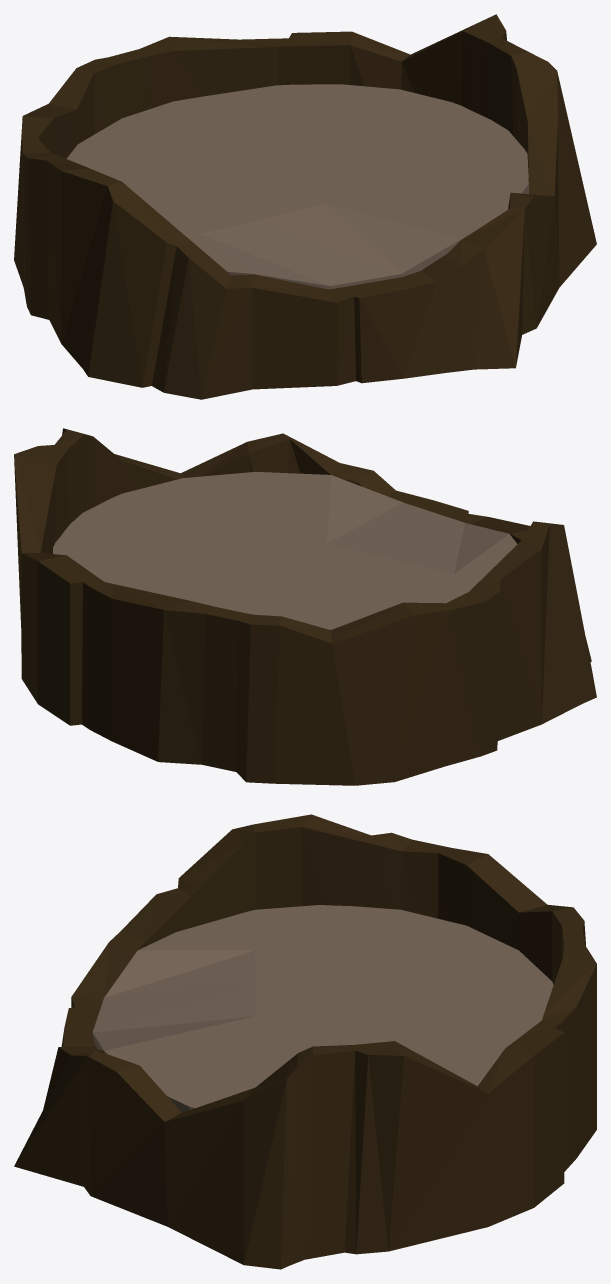
File: Stump stage.fbx
3 renders of one model, top to bottom at view 1: azimuth 30°, elevation 25°; view 2: azimuth 150°, elevation 25°; view 3: azimuth 270°, elevation 25°, orthographic. The views are drawn at different scales.
Visible parts, largest first — view 1: Stump_Stage; view 2: Stump_Stage; view 3: Stump_Stage.
Part boxes in pixels (bbox=[...]): Stump_Stage: bbox=[14, 14, 596, 399]; Stump_Stage: bbox=[14, 428, 596, 785]; Stump_Stage: bbox=[14, 814, 596, 1269].
Bounding box in the file's own units: 122 × 40.74 × 109.
